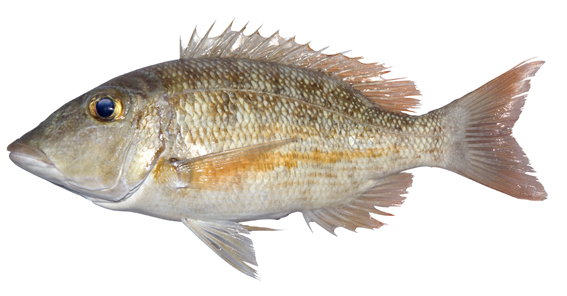fish: (6, 17, 548, 281)
